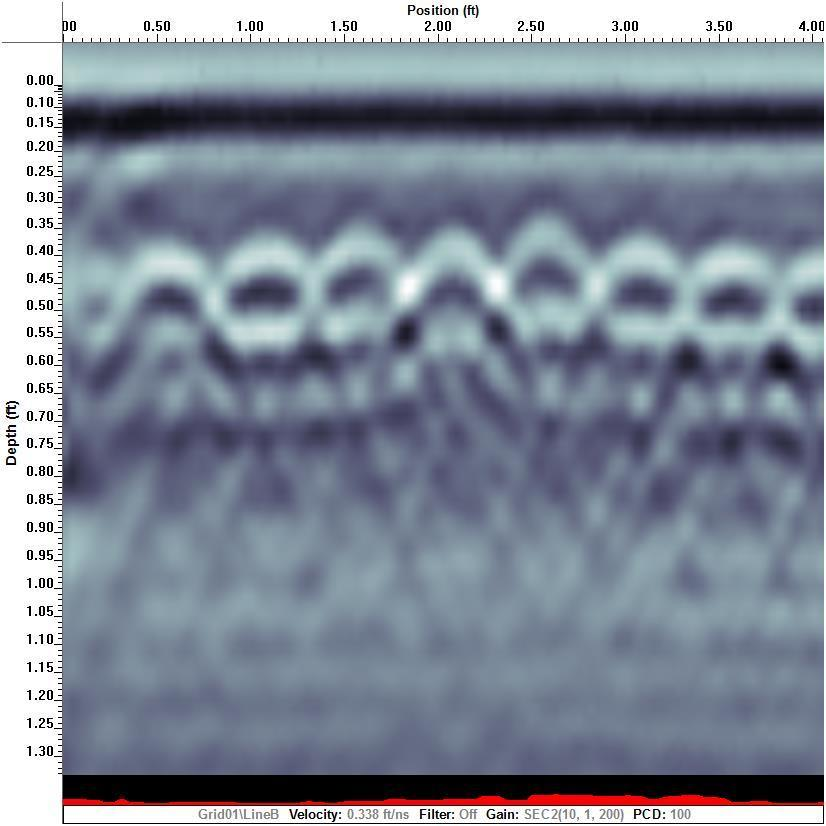hyperbola: (657, 233, 797, 513), (572, 231, 712, 511), (488, 221, 628, 501), (387, 226, 527, 506), (291, 226, 431, 506), (195, 234, 335, 514), (101, 242, 241, 522)
